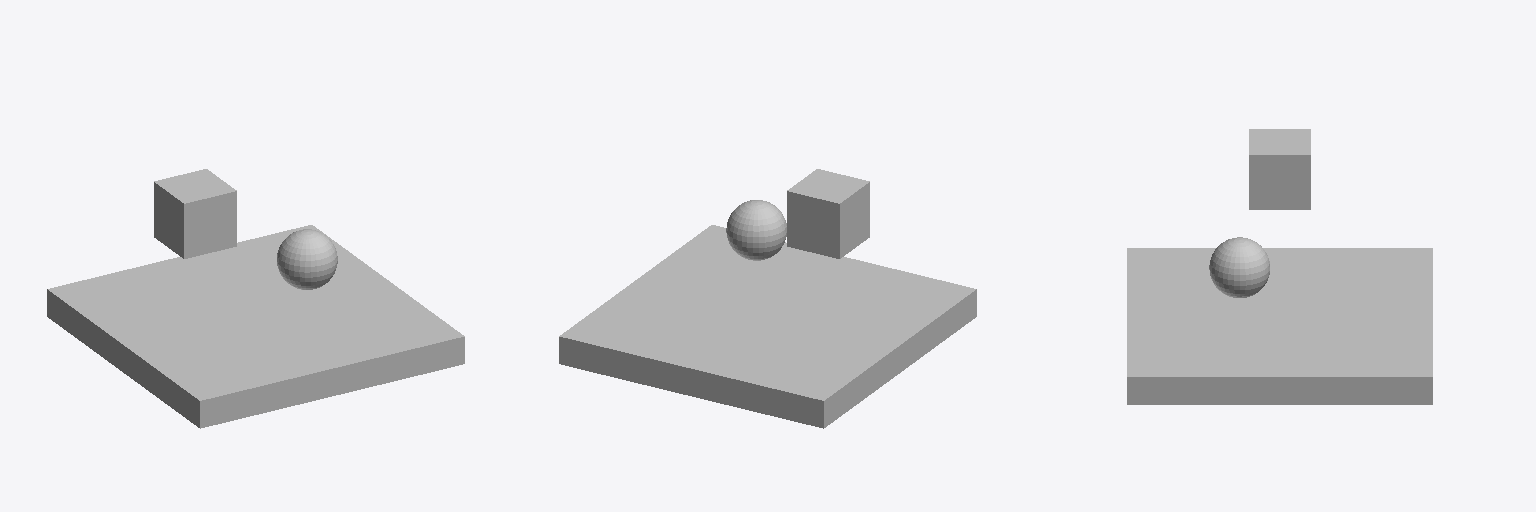
Rendered from ShadowTest.obj.
The picture shows the model from 3 angles: view 1: azimuth 30°, elevation 25°; view 2: azimuth 150°, elevation 25°; view 3: azimuth 270°, elevation 25°; orthographic projection.
Parts seen in each view (by area): view 1: Cube_Cube.001; view 2: Cube_Cube.001; view 3: Cube_Cube.001.
Boxes of the visible parts, x1,y1,x2,y2 form: Cube_Cube.001: [47, 169, 464, 428]; Cube_Cube.001: [559, 169, 976, 428]; Cube_Cube.001: [1127, 129, 1432, 404].
Size of the model in its own units: 1 by 0.6096 by 1.